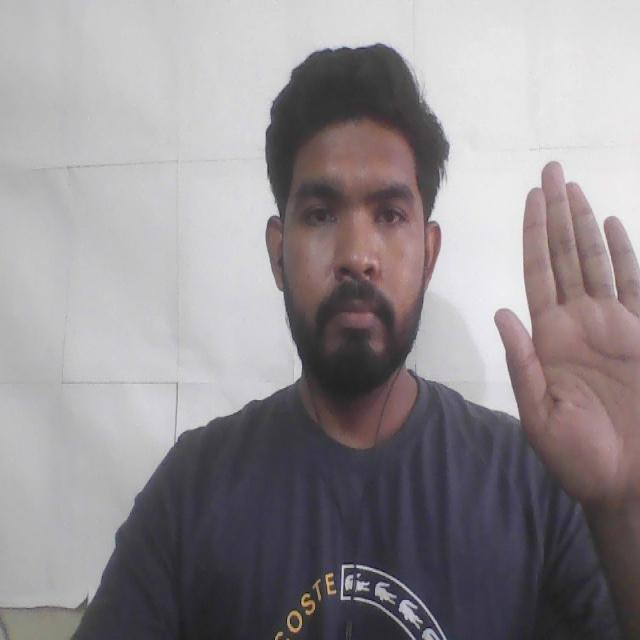Hello-Yes-No-Thanks-Please-ILU: (485, 144, 640, 567)
